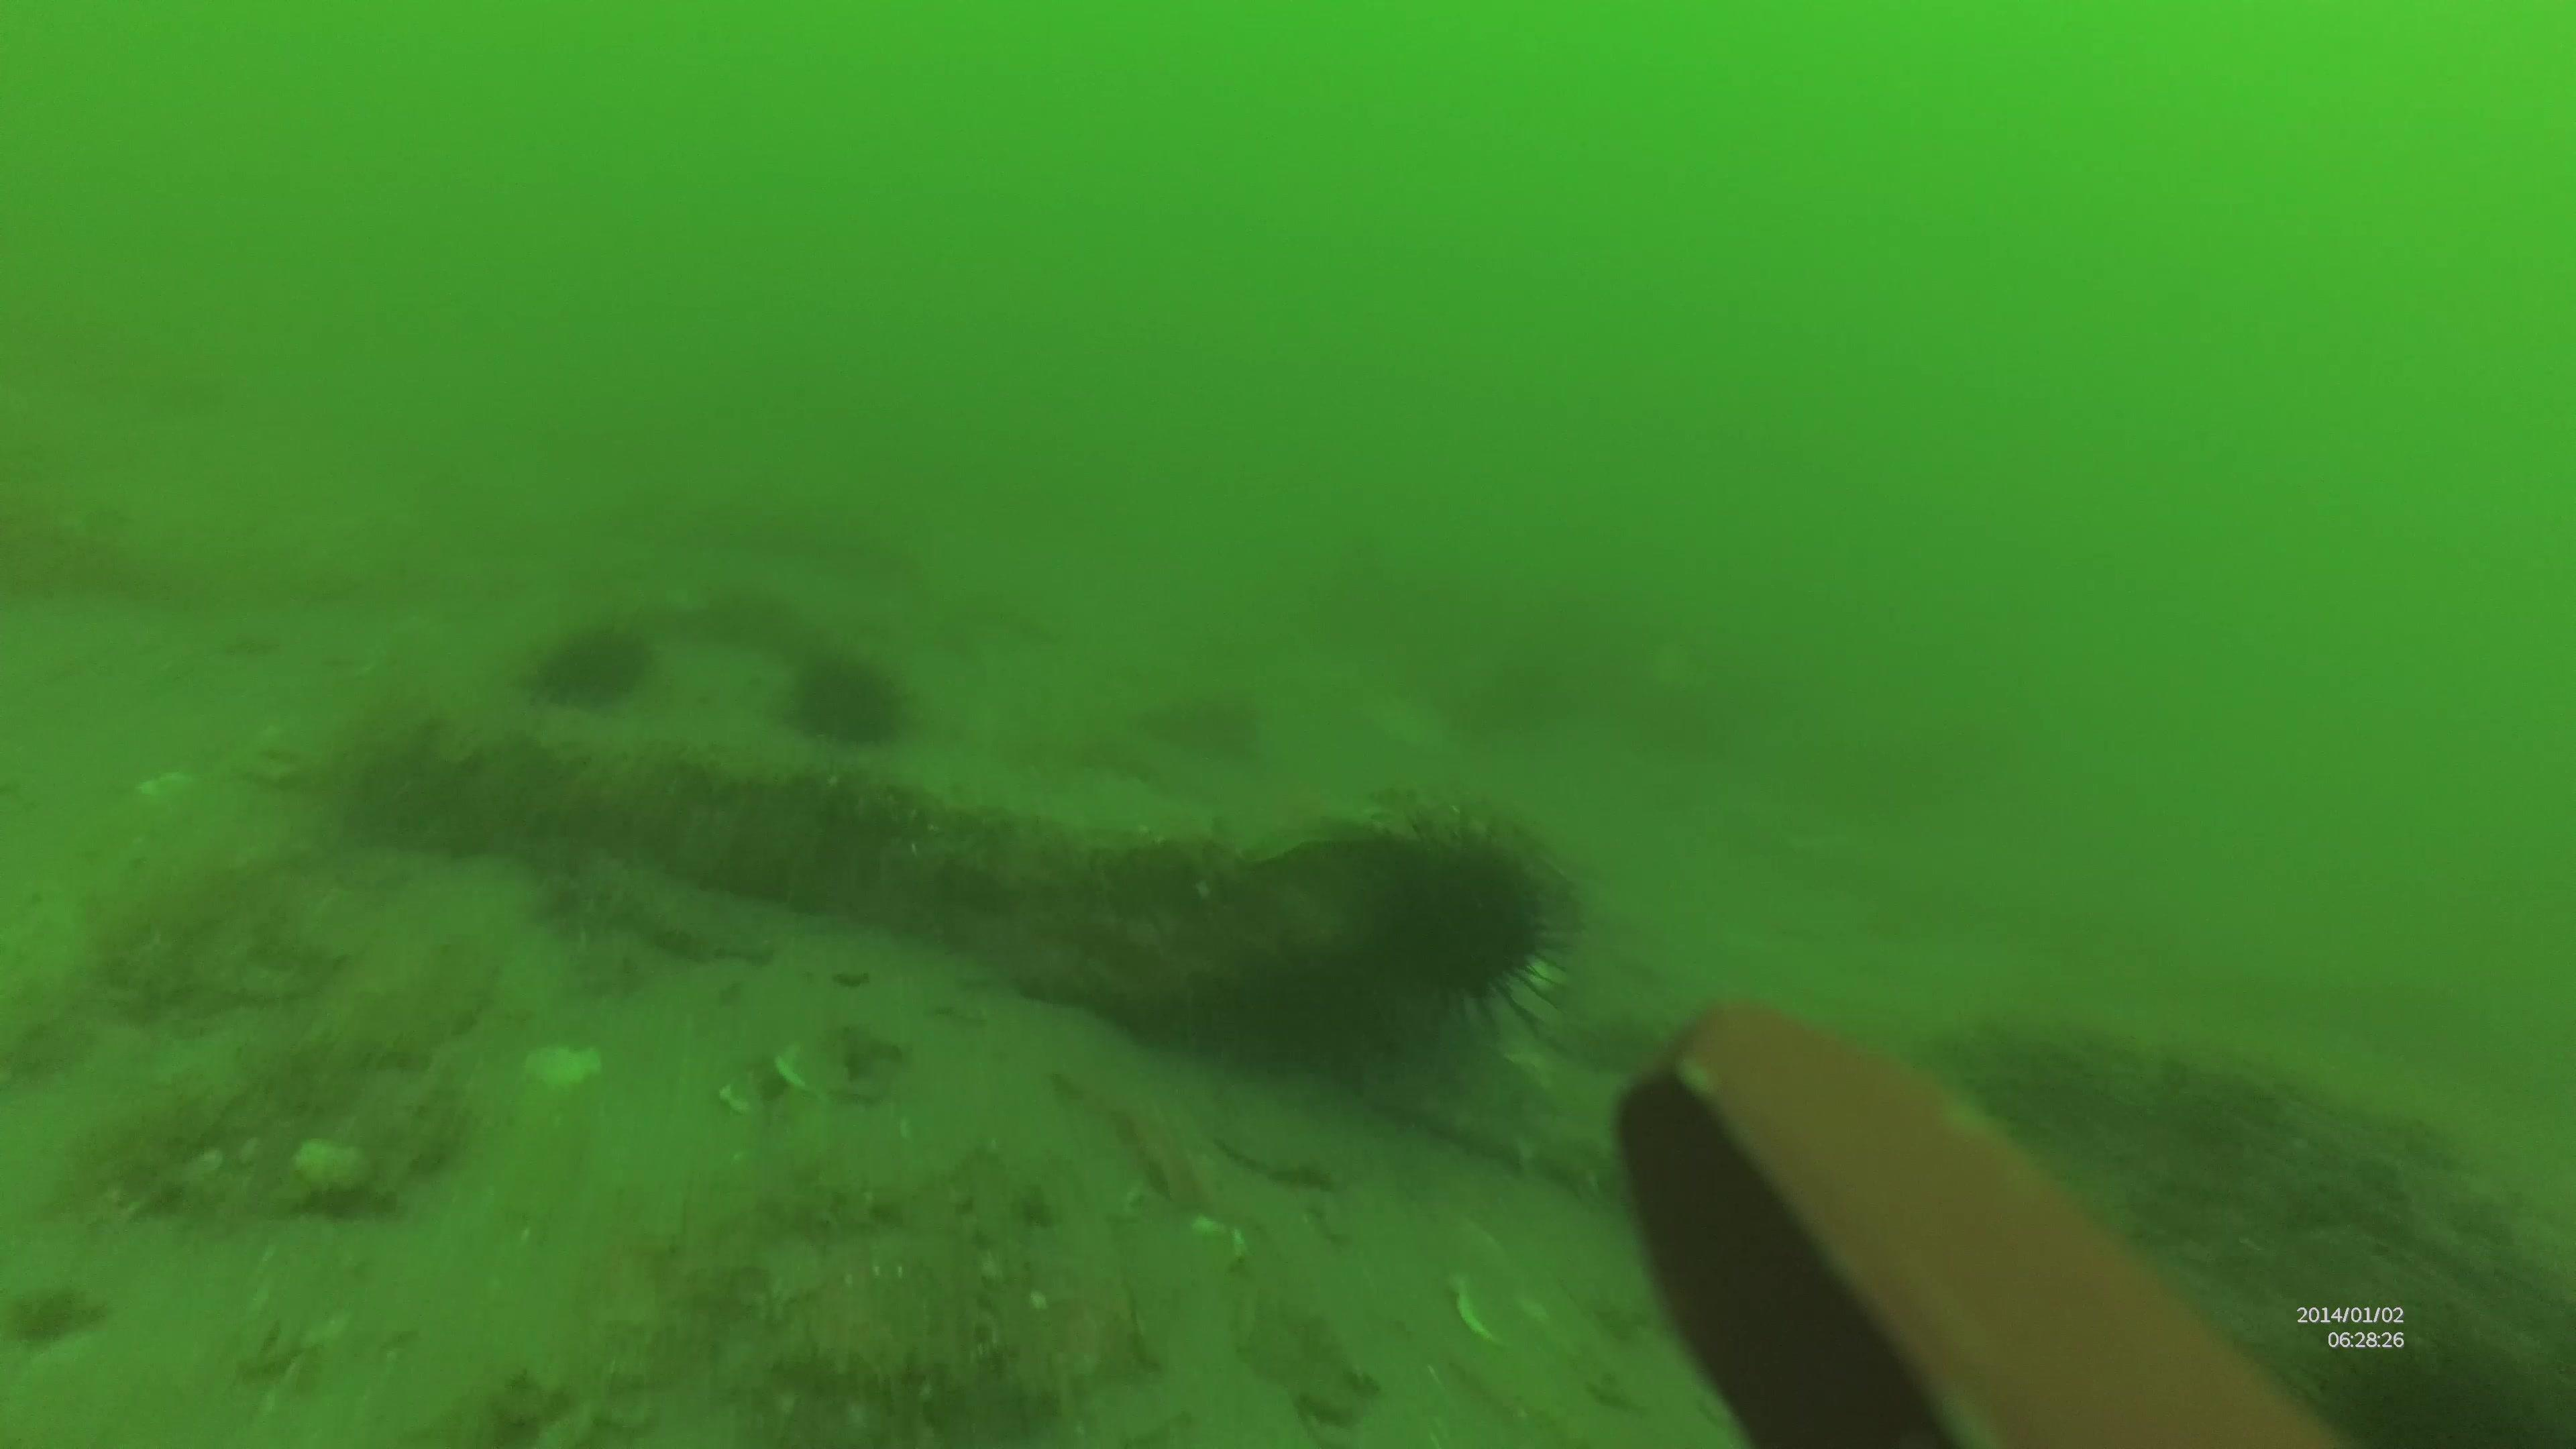echinus: (1371, 793, 1578, 1040), (782, 642, 918, 755), (524, 614, 660, 715)
